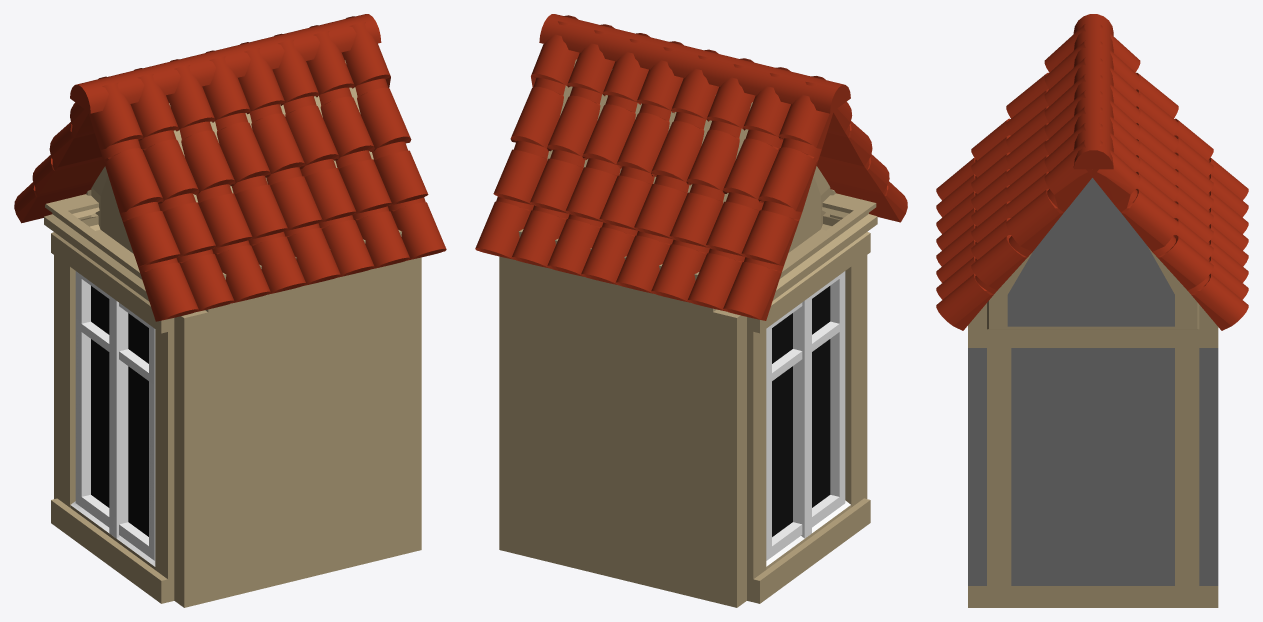
The model's file is WindowRoof.fbx.
3 renders of one model, left to right at view 1: azimuth 30°, elevation 25°; view 2: azimuth 150°, elevation 25°; view 3: azimuth 270°, elevation 25°, orthographic. The views are drawn at different scales.
Parts seen in each view (by area): view 1: RoofWindow1; view 2: RoofWindow1; view 3: RoofWindow1.
Boxes of the visible parts, x1,y1,x2,y2 form: RoofWindow1: (14,14,446,607); RoofWindow1: (475,14,907,607); RoofWindow1: (936,14,1248,607).
Bounding box in the file's own units: 59.91 × 94.95 × 57.81.
